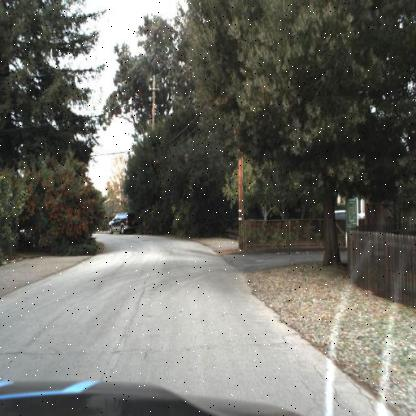car: (322, 198, 368, 225), (106, 206, 140, 242)
